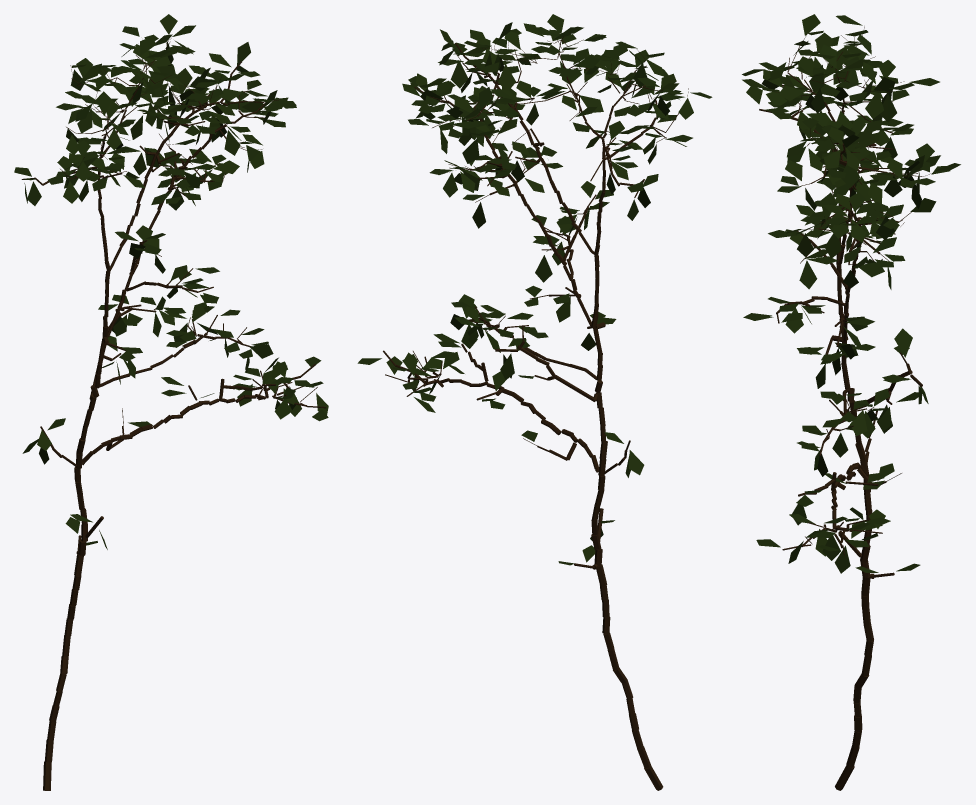
Rendered from tree_459.obj.
The picture shows the model from 3 angles, left to right: view 1: azimuth 30°, elevation 25°; view 2: azimuth 150°, elevation 25°; view 3: azimuth 270°, elevation 25°; orthographic projection. The views are drawn at different scales.
Visible parts, largest first — view 1: Leaves, TrunkAndBranches; view 2: Leaves, TrunkAndBranches; view 3: Leaves, TrunkAndBranches.
Part boxes in pixels (x1,y1,x2,y2): Leaves: (14, 14, 328, 549); TrunkAndBranches: (21, 34, 326, 790); Leaves: (357, 14, 712, 565); TrunkAndBranches: (383, 36, 688, 790); Leaves: (742, 14, 960, 573); TrunkAndBranches: (759, 26, 931, 790).
Bounding box in the file's own units: 3.61 × 8.41 × 2.1.
